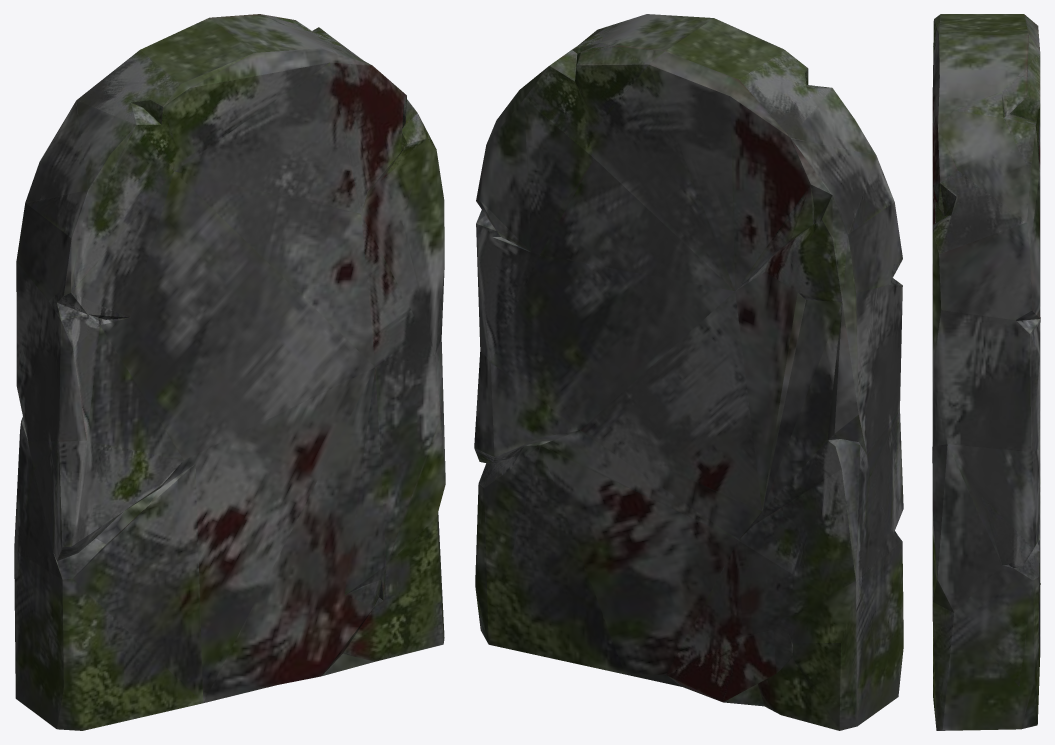
Rendered from prop-grave.glb.
The picture shows the model from 3 angles, left to right: view 1: azimuth 30°, elevation 25°; view 2: azimuth 150°, elevation 25°; view 3: azimuth 270°, elevation 25°; orthographic projection. The views are drawn at different scales.
Bounding box in the file's own units: 1.2 × 1.9 × 0.3057.
Materials: 1 (1 with a texture image).
